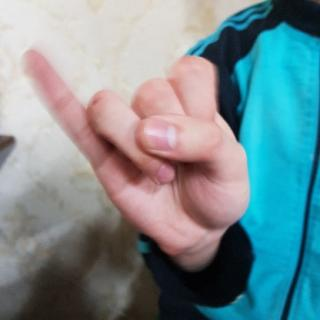MEEM: (22, 38, 256, 260)
